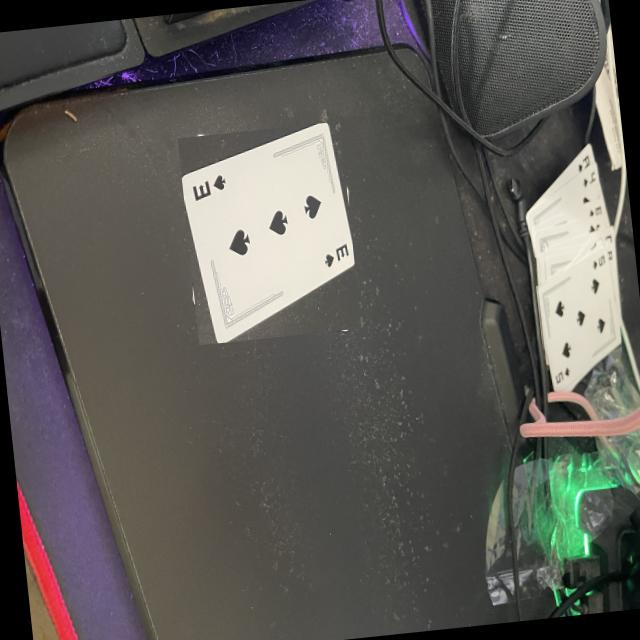3 of spades: (181, 123, 353, 343)
5 of spades: (536, 250, 619, 392)
